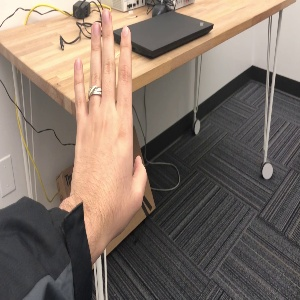hand: (73, 7, 146, 210)
